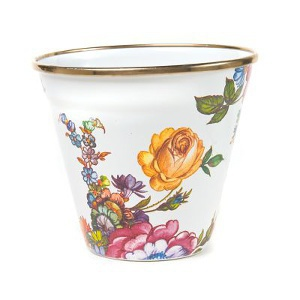flowerpot: (34, 38, 261, 263)
